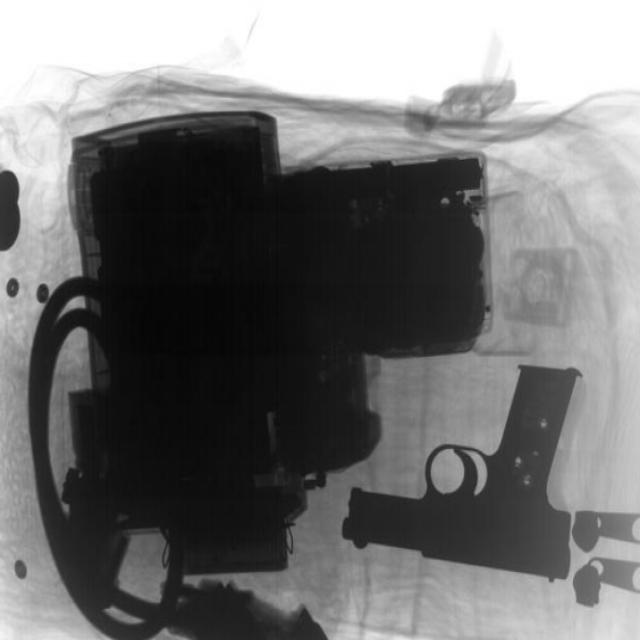GUN: (345, 365, 583, 593), (35, 474, 233, 640)
